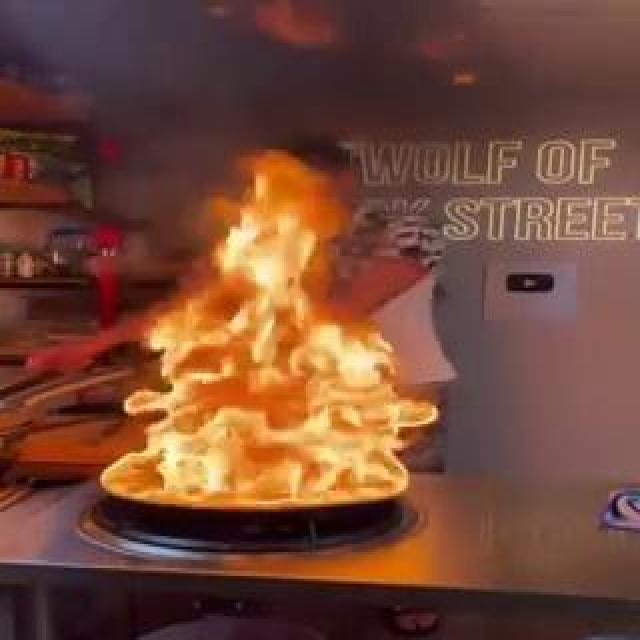Fire: (259, 340, 344, 352)
